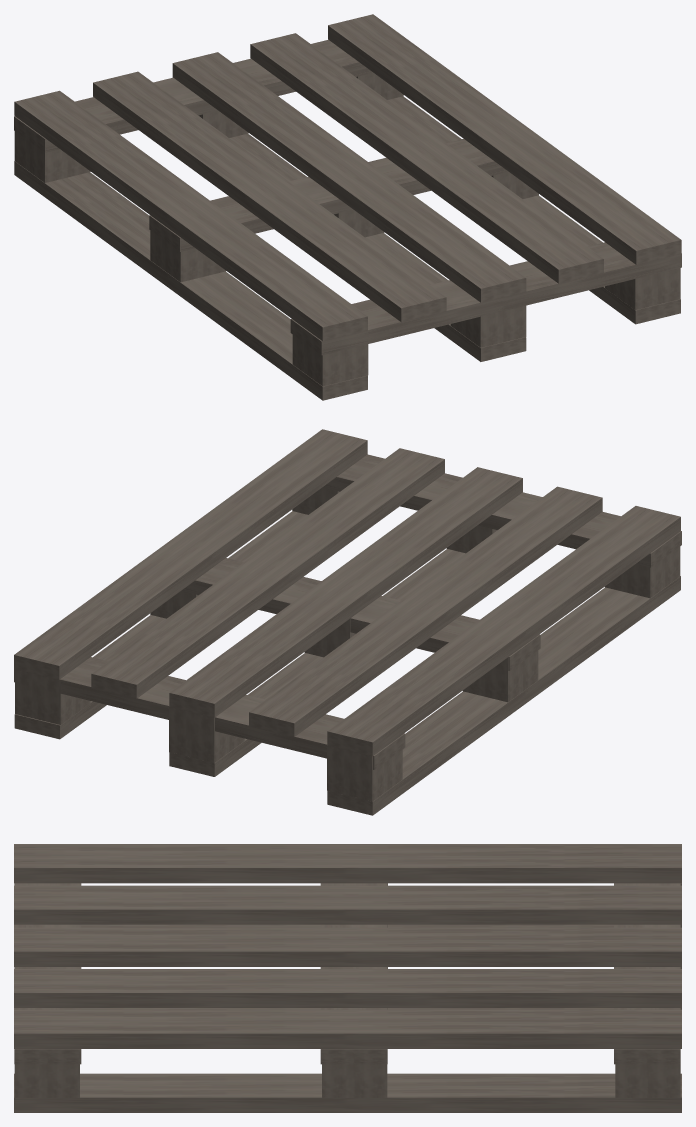
File: wooden_pallet_single.FBX
The picture shows the model from 3 angles, top to bottom: view 1: azimuth 30°, elevation 25°; view 2: azimuth 150°, elevation 25°; view 3: azimuth 270°, elevation 25°; orthographic projection. The views are drawn at different scales.
Parts seen in each view (by area): view 1: Box003, Box001, Box002, Box004, Box005, Box015, Box008, Box007, Box006, Box020, Box016, Box009 (+6 smaller); view 2: Box004, Box005, Box001, Box003, Box002, Box015, Box006, Box008, Box007, Box020, Box016, Box011 (+8 smaller); view 3: Box001, Box002, Box003, Box005, Box004, Box016, Box012, Box013, Box014, Box015, Box007, Box008 (+2 smaller).
Boxes of the visible parts, x1=… form: Box003: x1=172, y1=52, x2=526, y2=302; Box001: x1=14, y1=90, x2=367, y2=341; Box002: x1=93, y1=71, x2=446, y2=322; Box004: x1=250, y1=33, x2=603, y2=283; Box005: x1=328, y1=14, x2=681, y2=264; Box015: x1=14, y1=161, x2=367, y2=400; Box008: x1=290, y1=242, x2=681, y2=355; Box007: x1=149, y1=139, x2=508, y2=251; Box006: x1=14, y1=39, x2=373, y2=152; Box020: x1=229, y1=133, x2=526, y2=361; Box016: x1=387, y1=96, x2=680, y2=324; Box009: x1=292, y1=335, x2=368, y2=386; Box004: x1=91, y1=448, x2=444, y2=698; Box005: x1=14, y1=429, x2=367, y2=679; Box001: x1=327, y1=506, x2=680, y2=756; Box003: x1=169, y1=467, x2=522, y2=717; Box002: x1=249, y1=486, x2=602, y2=736; Box015: x1=327, y1=576, x2=680, y2=815; Box006: x1=14, y1=657, x2=405, y2=769; Box008: x1=322, y1=454, x2=681, y2=567; Box007: x1=181, y1=558, x2=540, y2=670; Box020: x1=169, y1=549, x2=465, y2=776; Box016: x1=14, y1=511, x2=307, y2=739; Box011: x1=327, y1=745, x2=402, y2=801; Box001: x1=14, y1=844, x2=681, y2=883; Box002: x1=14, y1=885, x2=681, y2=924; Box003: x1=14, y1=927, x2=681, y2=966; Box005: x1=14, y1=1009, x2=681, y2=1048; Box004: x1=14, y1=969, x2=681, y2=1007; Box016: x1=14, y1=1073, x2=681, y2=1112; Box012: x1=14, y1=1064, x2=79, y2=1097; Box013: x1=322, y1=1064, x2=387, y2=1097; Box014: x1=615, y1=1064, x2=680, y2=1097; Box015: x1=14, y1=924, x2=613, y2=927; Box007: x1=320, y1=883, x2=387, y2=1064; Box008: x1=14, y1=883, x2=81, y2=1064.
Bounding box in the file's own units: 1.35 × 0.2624 × 2.
1 material, 1 textured.
